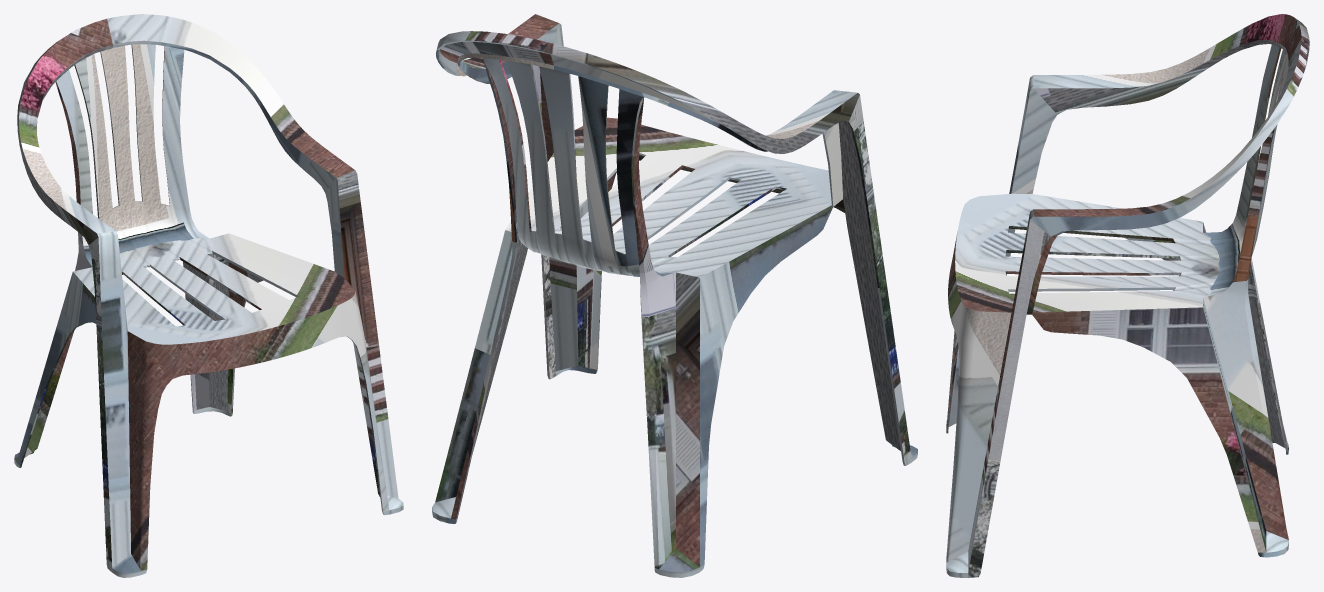
3 renders of one model, left to right at view 1: azimuth 30°, elevation 25°; view 2: azimuth 150°, elevation 25°; view 3: azimuth 270°, elevation 25°, orthographic. The views are drawn at different scales.
Parts seen in each view (by area): view 1: Monobloc; view 2: Monobloc; view 3: Monobloc.
Part boxes in pixels (bbox=[...]): Monobloc: bbox=[14, 14, 403, 577]; Monobloc: bbox=[432, 14, 917, 577]; Monobloc: bbox=[946, 14, 1309, 577].
Size of the model in its own units: 0.808 by 1.11 by 0.79.
